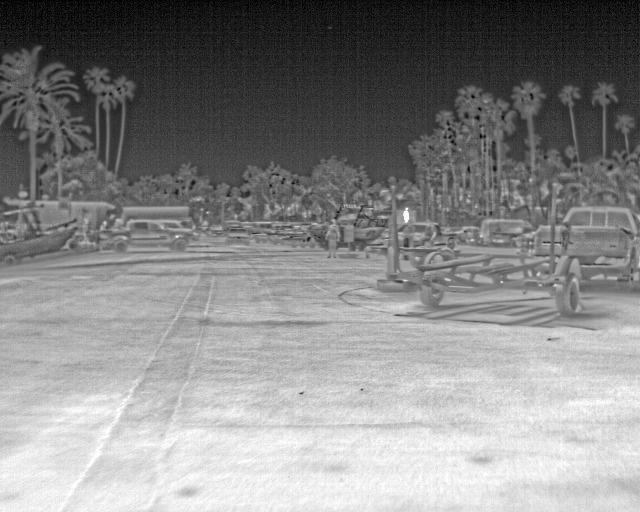bicycle: (533, 198, 639, 262), (101, 220, 193, 253), (389, 221, 453, 249), (480, 217, 531, 246), (222, 225, 252, 246), (155, 219, 186, 234)
empty: (324, 218, 340, 257), (341, 218, 358, 253)
